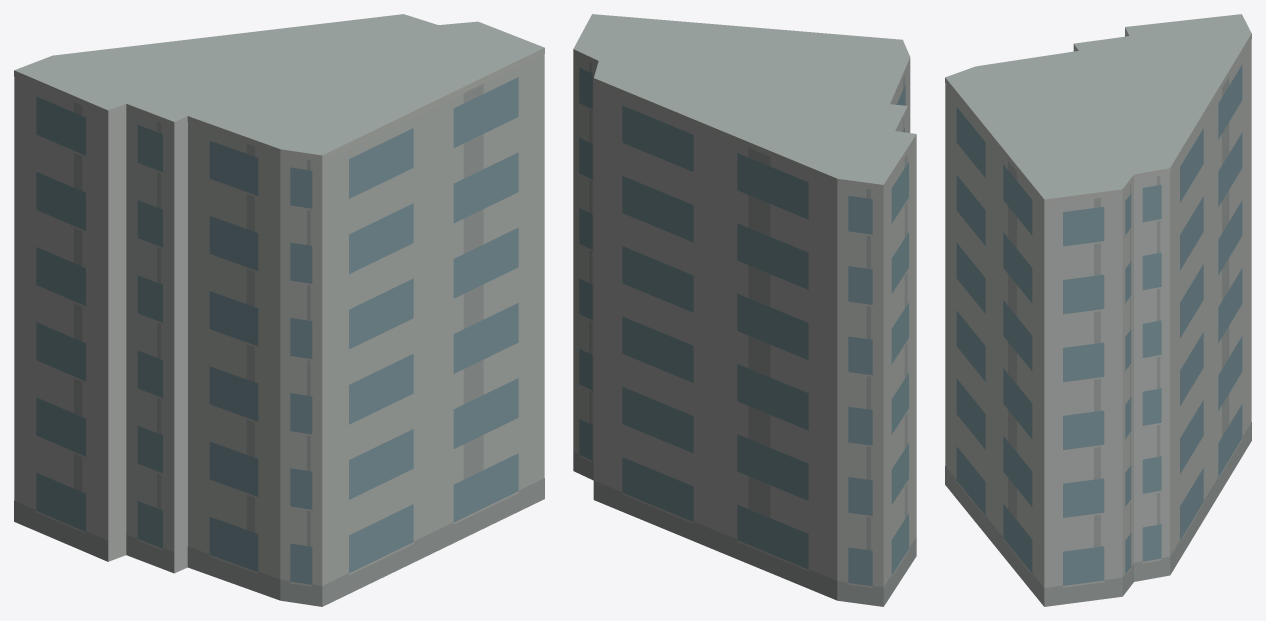
File: survey-upis-32809893.glb
3 renders of one model, left to right at view 1: azimuth 30°, elevation 25°; view 2: azimuth 150°, elevation 25°; view 3: azimuth 270°, elevation 25°, orthographic. The views are drawn at different scales.
Visible parts, largest first — view 1: survey-upis-32809893.tmp; view 2: survey-upis-32809893.tmp; view 3: survey-upis-32809893.tmp.
Part boxes in pixels (x1,y1,x2,y2): survey-upis-32809893.tmp: [14, 14, 544, 606]; survey-upis-32809893.tmp: [573, 14, 916, 606]; survey-upis-32809893.tmp: [945, 14, 1251, 606].
Bounding box in the file's own units: 17.1 × 17.5 × 11.95.
